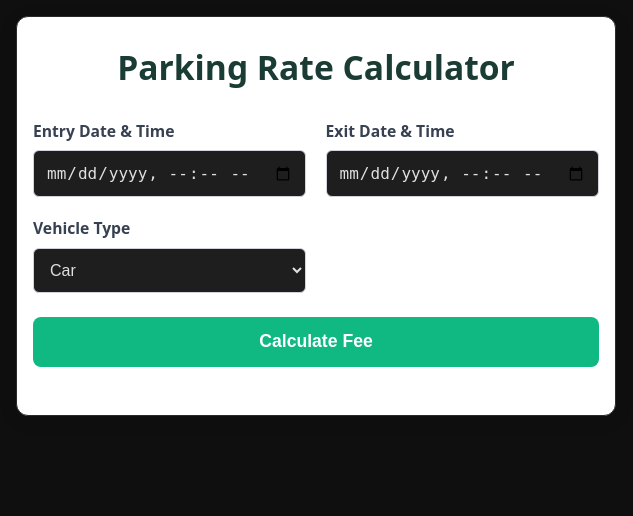
Parking Rate Calculator › shows error when entry or exit time is missing
Click the button "Calculate Fee" at (316, 342), box [33,317,599,367]
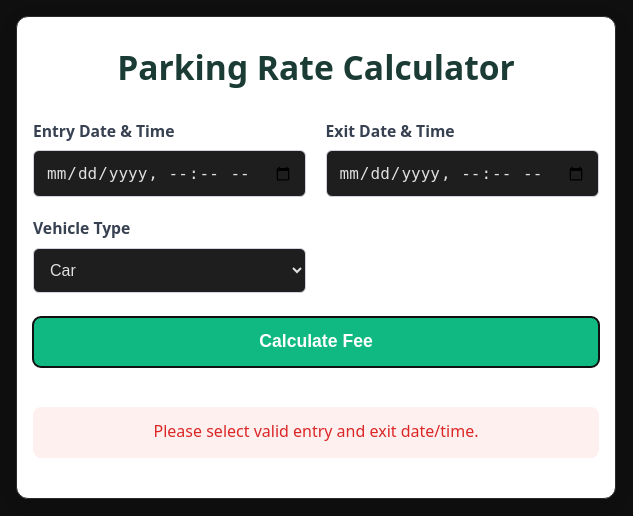
Check: the text "Please select valid entry and exit date/time." is shown, box [33,407,599,458]
